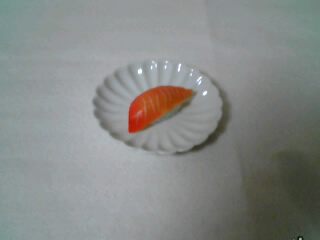002_classes: (116, 78, 204, 138)
